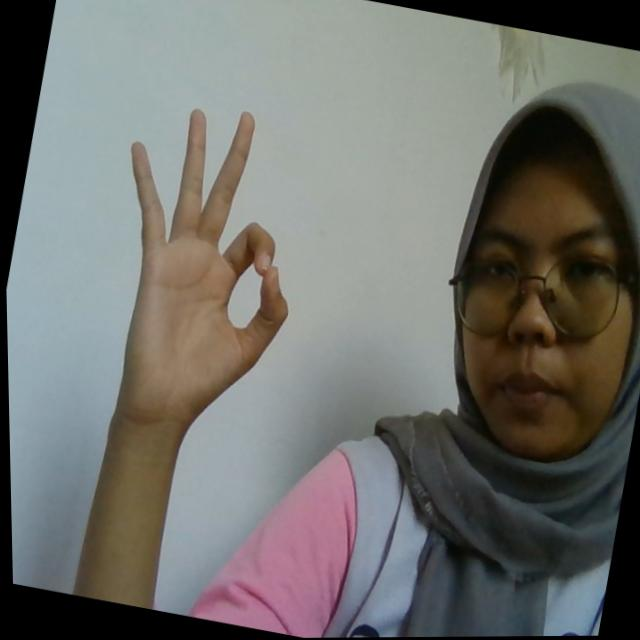F: (79, 89, 328, 445)
